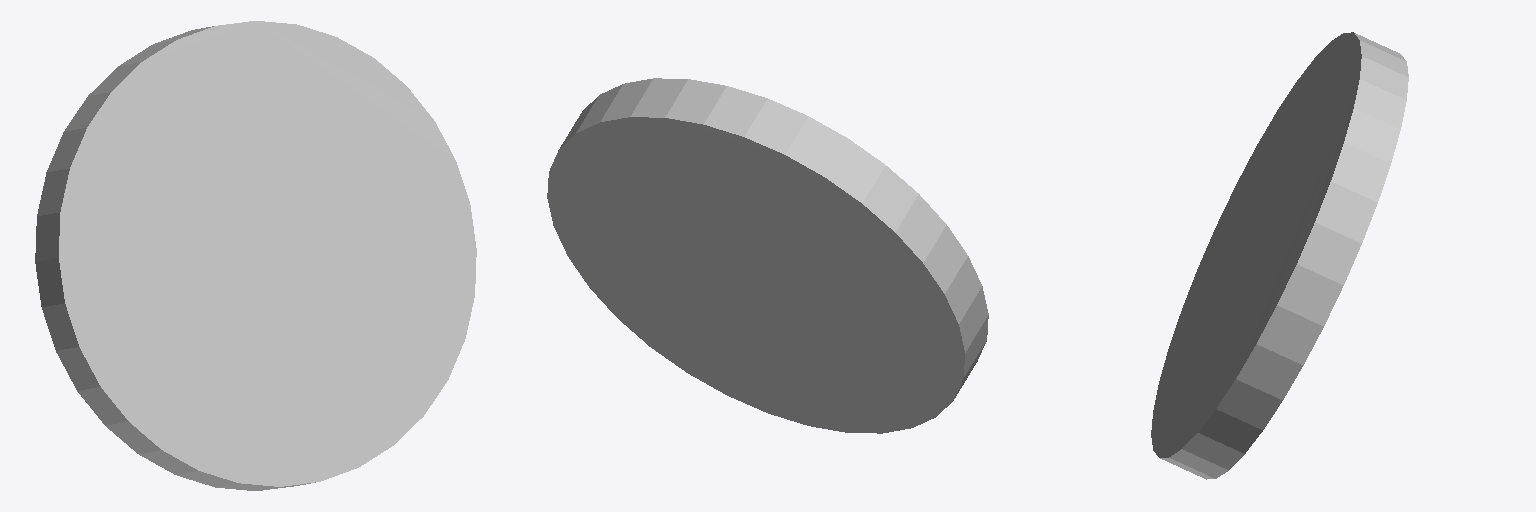
File: rc1_icon.obj
3 views of the same model, side by side, from view 1: azimuth 30°, elevation 25°; view 2: azimuth 150°, elevation 25°; view 3: azimuth 270°, elevation 25° (orthographic).
Visible parts, largest first — view 1: Cube.020; view 2: Cube.020; view 3: Cube.020.
Boxes of the visible parts, <box> form: Cube.020: <box>35,21,476,490</box>; Cube.020: <box>547,78,988,433</box>; Cube.020: <box>1151,32,1408,479</box>.
Bounding box in the file's own units: 0.006 × 0.0057 × 0.0033.